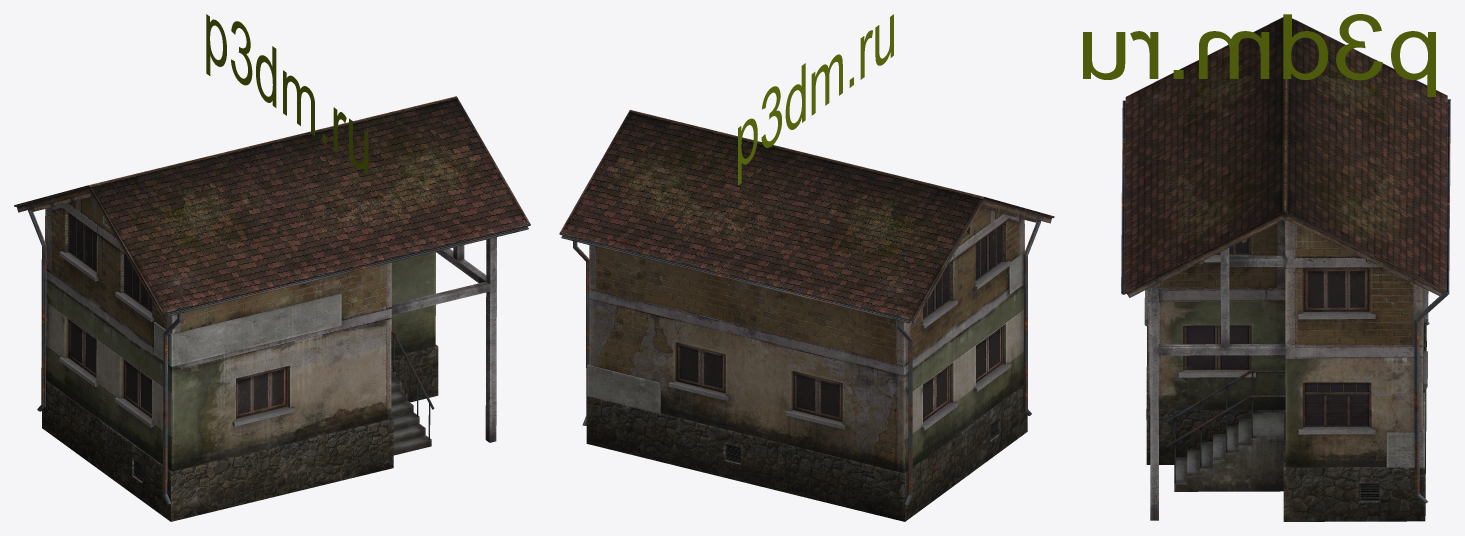
Rendered from casa.obj.
The picture shows the model from 3 angles, left to right: view 1: azimuth 30°, elevation 25°; view 2: azimuth 150°, elevation 25°; view 3: azimuth 270°, elevation 25°; orthographic projection. The views are drawn at different scales.
Visible parts, largest first — view 1: DrawCall_0042, Text001; view 2: DrawCall_0042, Text001; view 3: DrawCall_0042, Text001.
Boxes of the visible parts, x1,y1,x2,y2 form: DrawCall_0042: [14, 96, 530, 521]; Text001: [206, 14, 368, 175]; DrawCall_0042: [559, 110, 1054, 521]; Text001: [738, 14, 893, 185]; DrawCall_0042: [1121, 17, 1450, 521]; Text001: [1083, 14, 1435, 96].
Size of the model in its own units: 10.82 by 10.86 by 8.57.
